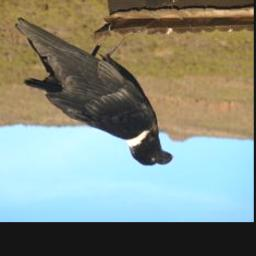Crow: (15, 17, 175, 171)
